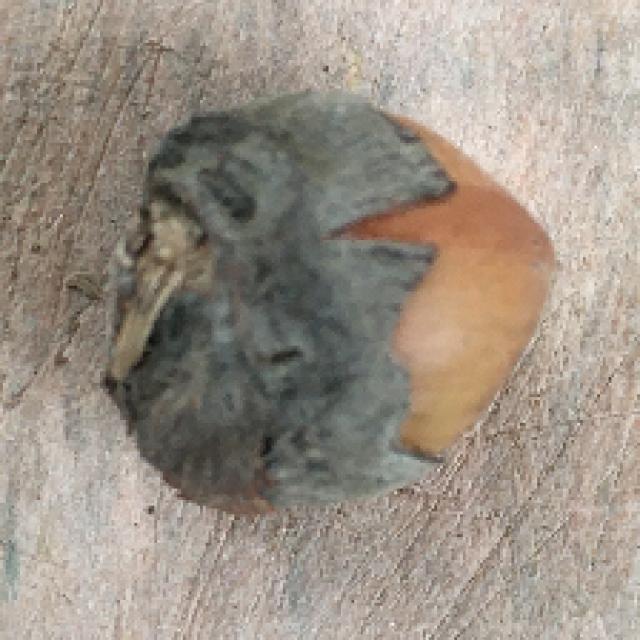damagedHazelnut: (110, 95, 546, 504)
